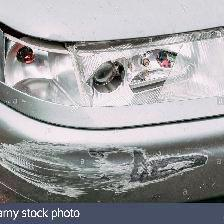head_lamp: (5, 135, 204, 190), (18, 43, 190, 104)
